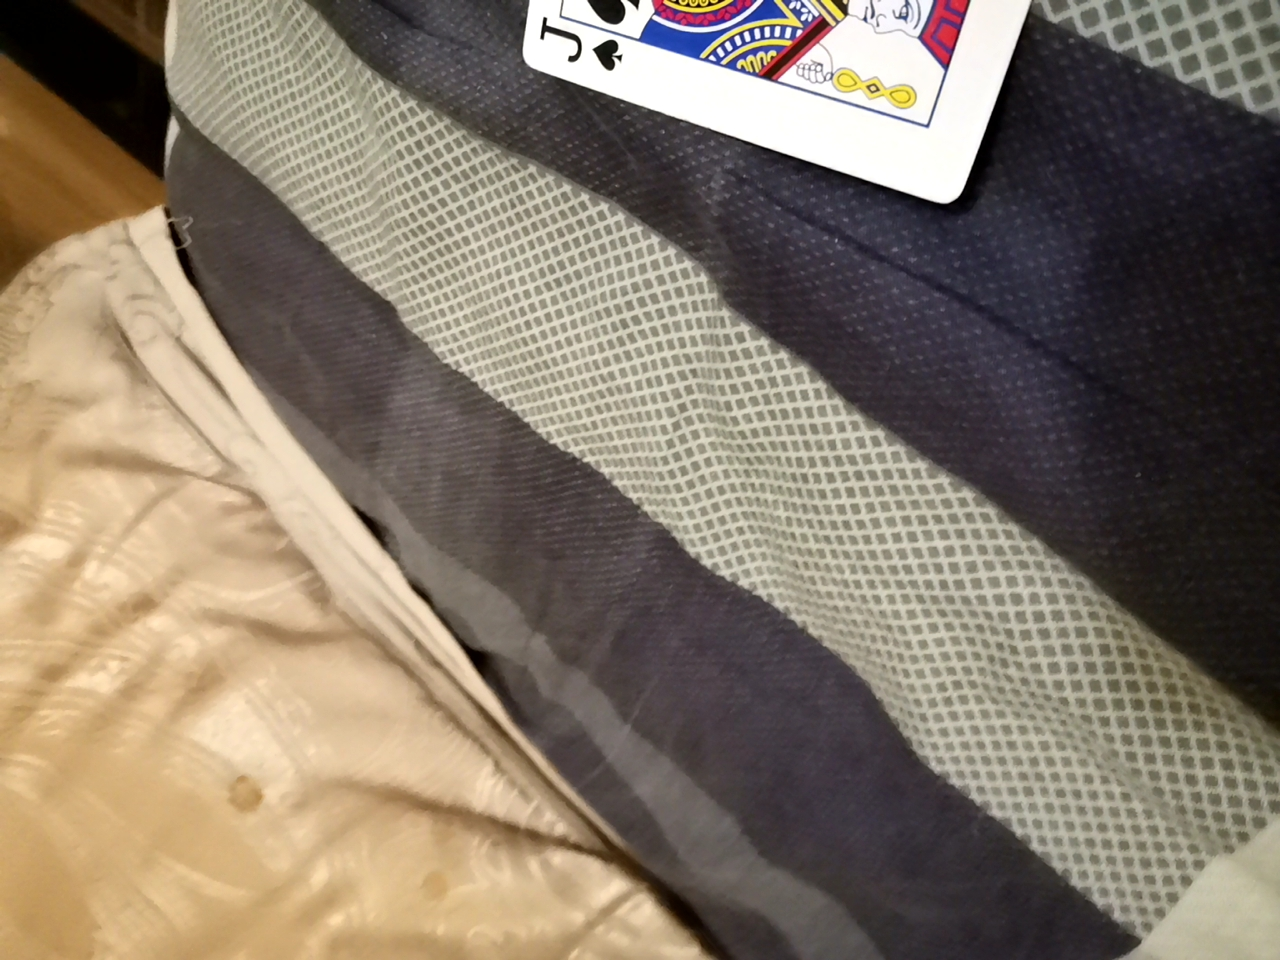ht j: (489, 0, 1091, 185)
